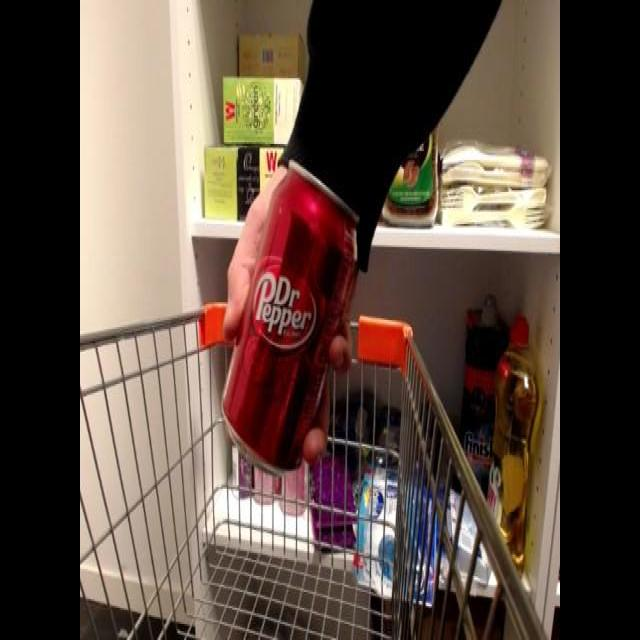Dr Pepper: (214, 150, 366, 484)
